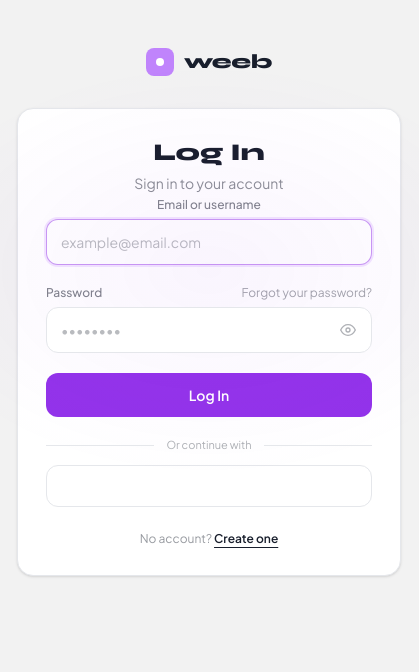
Test: Login › shows backend retry_after message on 429
Type "user@example.com" into the field labelled "Email or username" at (209, 242), box [46, 219, 372, 265]
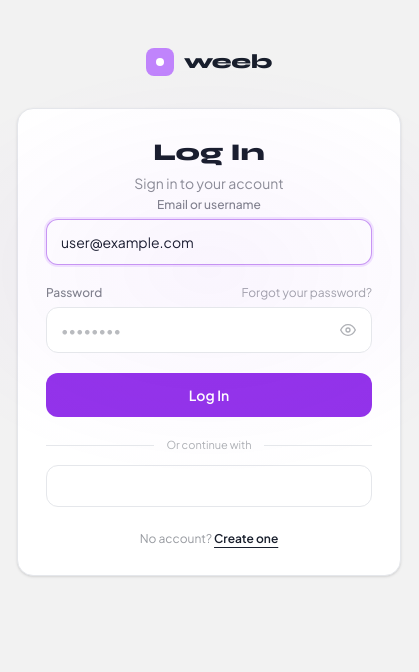
Type "secret123!" into the password field labelled "Password" at (209, 330), box [46, 307, 372, 353]
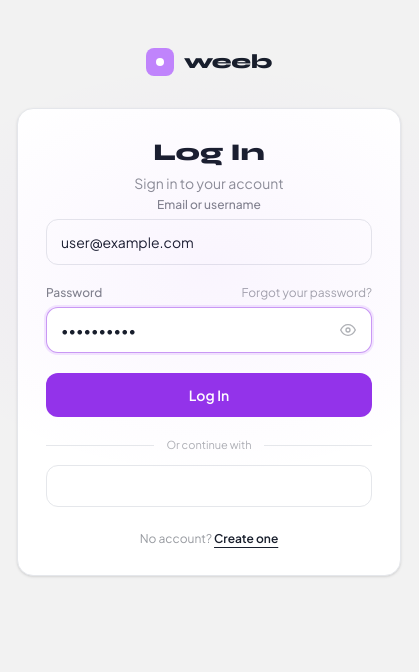
Click the button "Log In" at (209, 395), box [46, 373, 372, 417]
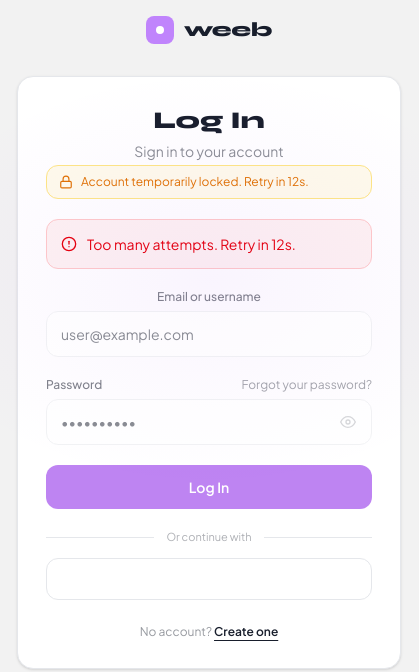
Now the text "Too many attempts. Retry in 12s." is shown, box [46, 219, 372, 269]
